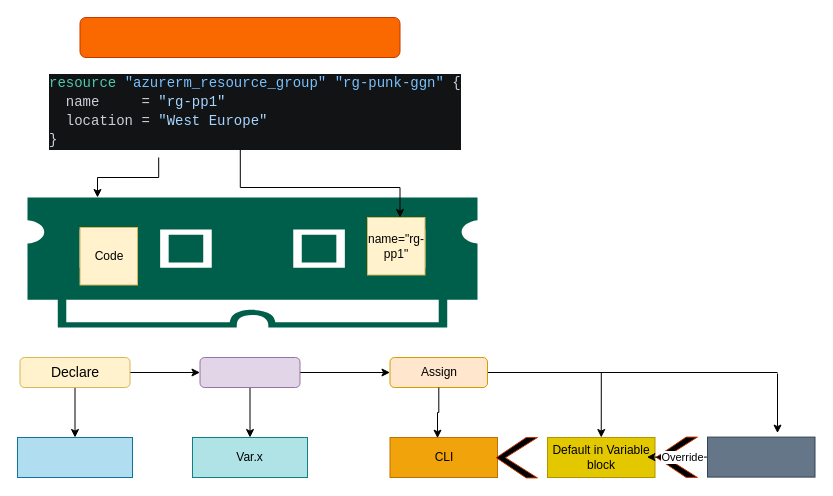
This 833x496 diagram has some shape labels left out. Each missing label, with the centre of its shape:
Terraform Variable: the point at 239,37
terraform.tfvars: the point at 760,456
Use: the point at 249,372
Variable "" {}: the point at 74,457
